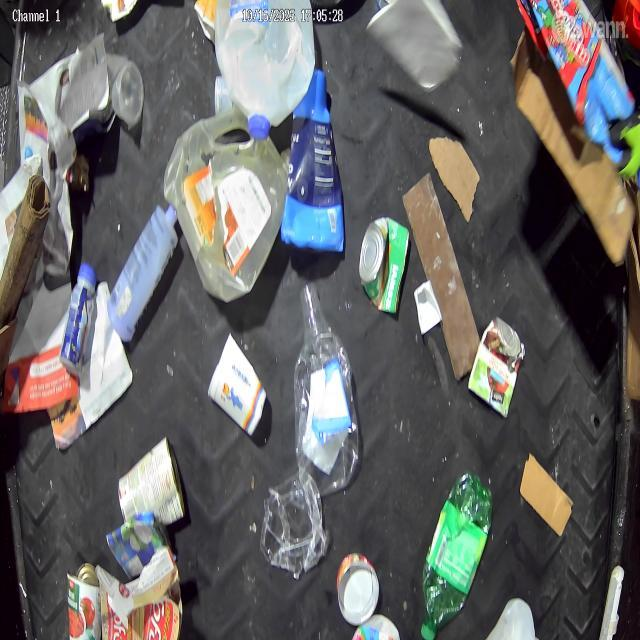can: (464, 313, 528, 415), (356, 208, 410, 322)
milk_jug: (215, 0, 313, 138)
non_white_jug: (163, 140, 290, 290), (284, 71, 340, 257)
plastic_bottle: (296, 271, 357, 488), (261, 480, 329, 570)
